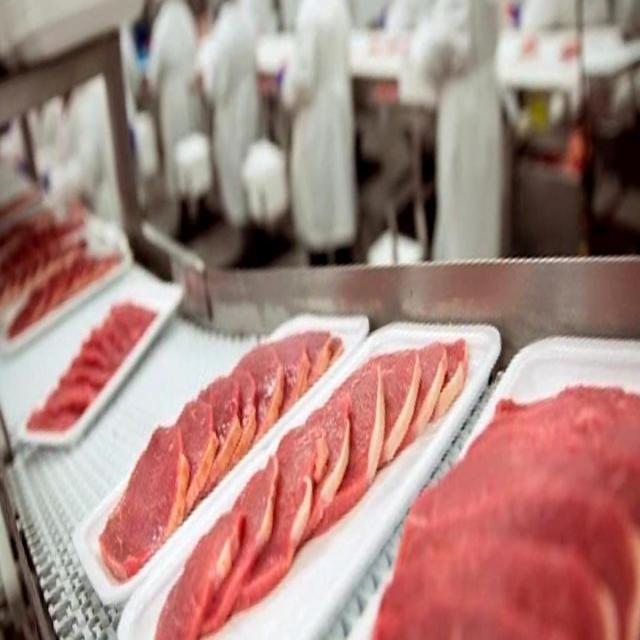food: (181, 292, 524, 640), (77, 321, 322, 577)
